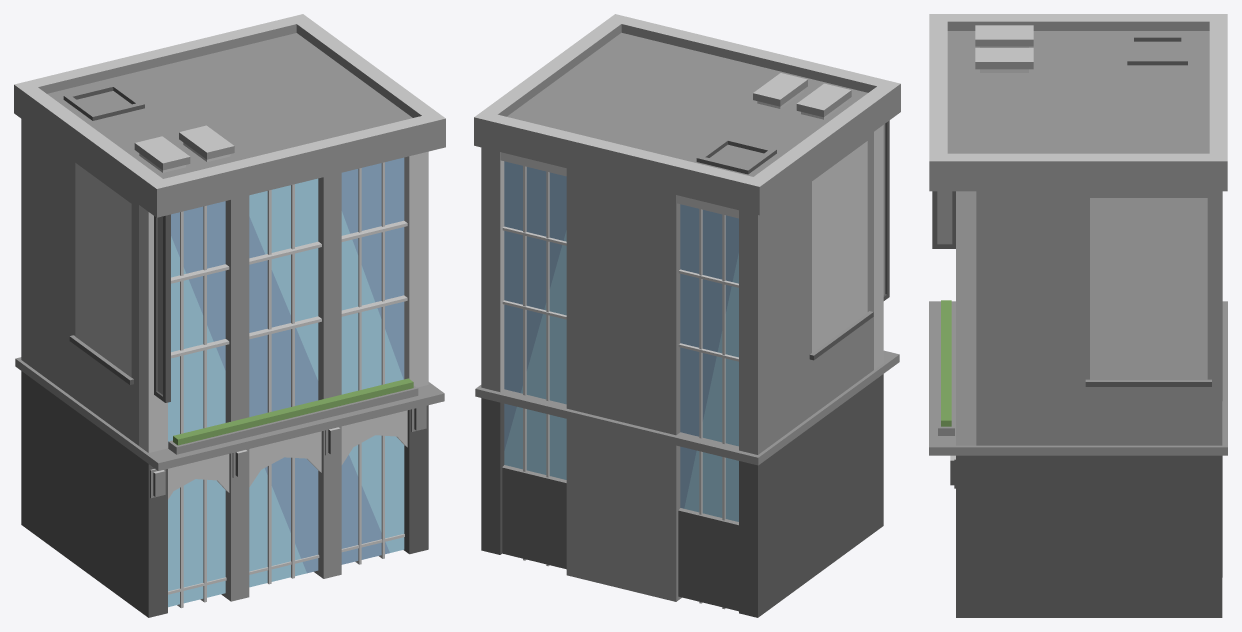
Rendered from hotel_008.fbx.
3 views of the same model, side by side, from view 1: azimuth 30°, elevation 25°; view 2: azimuth 150°, elevation 25°; view 3: azimuth 270°, elevation 25° (orthographic). The views are drawn at different scales.
Parts seen in each view (by area): view 1: hotel_008; view 2: hotel_008; view 3: hotel_008.
Part boxes in pixels (x1,y1,x2,y2): hotel_008: [14, 14, 445, 617]; hotel_008: [474, 14, 900, 617]; hotel_008: [929, 14, 1227, 617].
Bounding box in the file's own units: 597 × 879 × 511.
